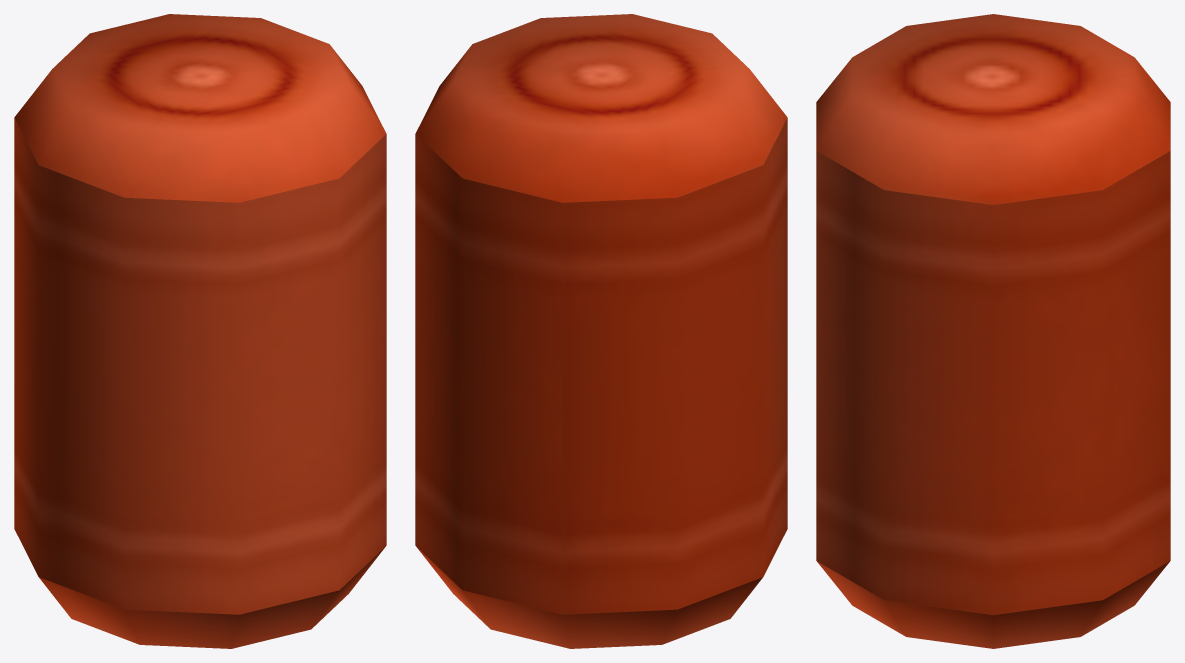
The model's file is Barrel_2.FBX.
The picture shows the model from 3 angles, left to right: view 1: azimuth 30°, elevation 25°; view 2: azimuth 150°, elevation 25°; view 3: azimuth 270°, elevation 25°; orthographic projection.
Parts seen in each view (by area): view 1: Barrel_2; view 2: Barrel_2; view 3: Barrel_2.
Part boxes in pixels (x1,y1,x2,y2): Barrel_2: (14, 14, 386, 648); Barrel_2: (415, 14, 787, 648); Barrel_2: (816, 14, 1170, 648).
Bounding box in the file's own units: 111 × 167 × 105.
